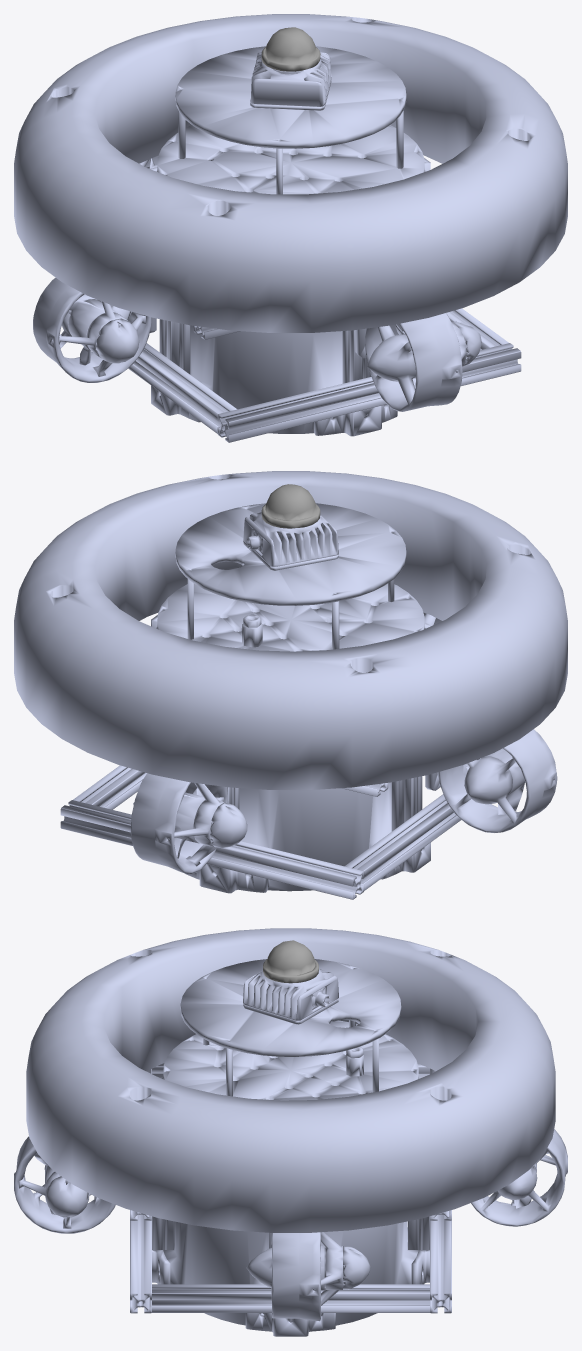
File: platform_viz.obj
The picture shows the model from 3 angles, top to bottom: view 1: azimuth 30°, elevation 25°; view 2: azimuth 150°, elevation 25°; view 3: azimuth 270°, elevation 25°; orthographic projection. The views are drawn at different scales.
Bounding box in the file's own units: 50.25 × 33.61 × 50.25.
